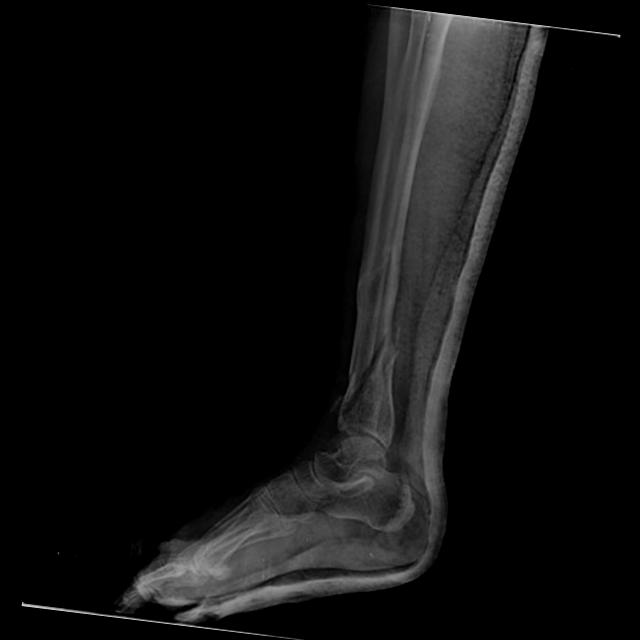fractured: (324, 321, 402, 420), (352, 230, 403, 315)
